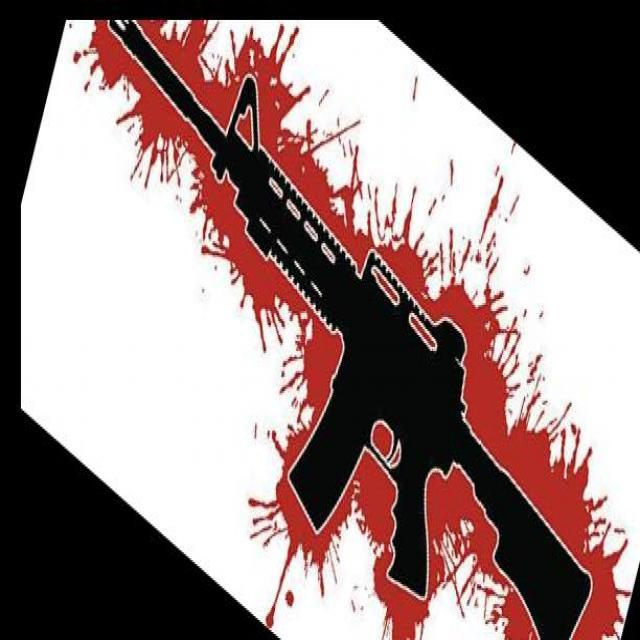weapon: (106, 20, 592, 640)
